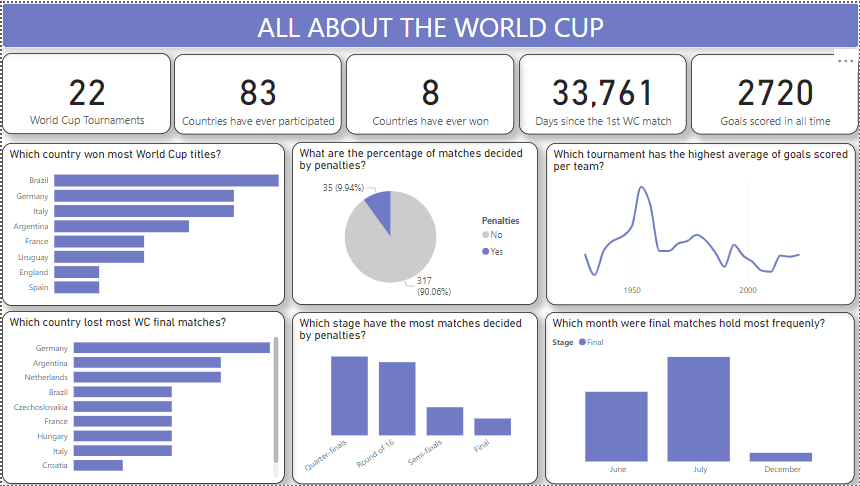

The dashboard page shown, as its layout file describes it:
{"tool":"powerbi","page":{"name":"All Time","canvas":[1280,720],"ordinal":0},"visuals":[{"type":"card","fields":{"Values":["All time Measures.Tournaments Qty"]},"box":[0,75,251.9,121.2],"z":0},{"type":"card","fields":{"Values":["All time Measures.DCount of Participated Countries"]},"box":[256.7,75.8,250,120],"z":1000},{"type":"clusteredBarChart","title":"Which country won most World Cup titles?","fields":{"Category":["world_cups_statistics.Winner (2)"],"Y":["CountNonNull(world_cups_statistics.Winner (2))"]},"box":[0,209.5,422.2,242.9],"z":2000},{"type":"columnChart","title":"Which month were final matches hold most frequenly?","fields":{"Category":["all_world_cup_matches.Date.Variation.Date Hierarchy.Month"],"Y":["CountNonNull(all_world_cup_matches.Match_ID)"],"Series":["all_world_cup_matches.Stage"]},"box":[811.1,461.1,461.9,257.1],"z":3000},{"type":"card","fields":{"Values":["All time Measures.1stMatch DateDiff"]},"box":[771.5,75.8,250,120],"z":4000},{"type":"lineChart","title":"Which tournament has the highest average of goals scored per team?","fields":{"Category":["world_cups_statistics.Year"],"Y":["All time Measures.Avg. Goals per Team"]},"box":[811.5,209.6,461.5,242.3],"z":5000},{"type":"pieChart","title":"What are the percentage of matches decided by penalties?","fields":{"Category":["all_world_cup_matches.Has_penalties"],"Y":["CountNonNull(all_world_cup_matches.Match_ID)"]},"box":[432.8,207.5,367.2,243.3],"z":6000},{"type":"clusteredColumnChart","title":"Which stage have the most matches decided by penalties?","fields":{"Category":["all_world_cup_matches.Stage"],"Y":["CountNonNull(all_world_cup_matches.Match_ID)"],"Series":["all_world_cup_matches.Has_penalties"]},"box":[433.3,461.1,366.7,257.1],"z":7000},{"type":"card","fields":{"Values":["All time Measures.WC Winning Countries"]},"box":[513.7,75.8,250.8,120],"z":8000},{"type":"clusteredBarChart","title":"Which country lost most WC final matches?","fields":{"Category":["world_cups_statistics.Runners-Up(2)"],"Y":["CountNonNull(world_cups_statistics.Runners-Up(2))"]},"box":[0,460.4,421.8,257.7],"z":9000},{"type":"card","fields":{"Values":["All time Measures.Total Goal scored (card)"]},"box":[1028.5,75.8,250,120],"z":10000},{"type":"shape","box":[0,0,1279.5,66.7],"z":11000}]}

Visuals, with their boxes in screenshot pixels (x1, y1, x2, y2), scaled from the page's 1280x720 canvas onto the 860x486 screenshot:
card - All time Measures.Tournaments Qty: <box>0,51,169,132</box>
card - All time Measures.DCount of Participated Countries: <box>172,51,340,132</box>
"Which country won most World Cup titles?" clusteredBarChart: <box>0,141,284,305</box>
"Which month were final matches hold most frequenly?" columnChart: <box>545,311,855,485</box>
card - All time Measures.1stMatch DateDiff: <box>518,51,686,132</box>
"Which tournament has the highest average of goals scored per team?" lineChart: <box>545,141,855,305</box>
"What are the percentage of matches decided by penalties?" pieChart: <box>291,140,538,304</box>
"Which stage have the most matches decided by penalties?" clusteredColumnChart: <box>291,311,538,485</box>
card - All time Measures.WC Winning Countries: <box>345,51,514,132</box>
"Which country lost most WC final matches?" clusteredBarChart: <box>0,311,283,485</box>
card - All time Measures.Total Goal scored (card): <box>691,51,859,132</box>
shape: <box>0,0,859,45</box>
